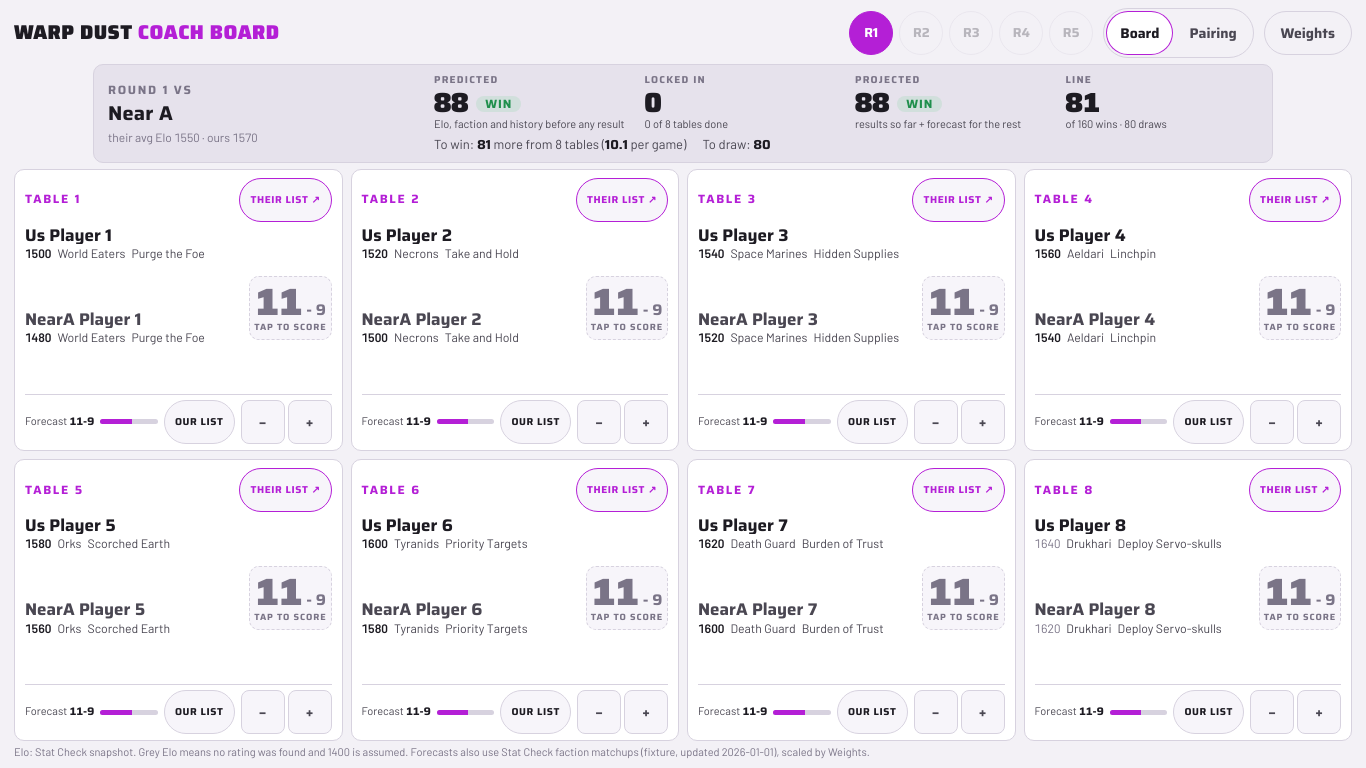
board save queue and poll race › discards a poll that began before a save and lands after it
The width and height of the screenshot is (1366, 768).
Step 1. Click the button named "Forecast one higher for table 1" → (310,422), box [288, 400, 332, 444]
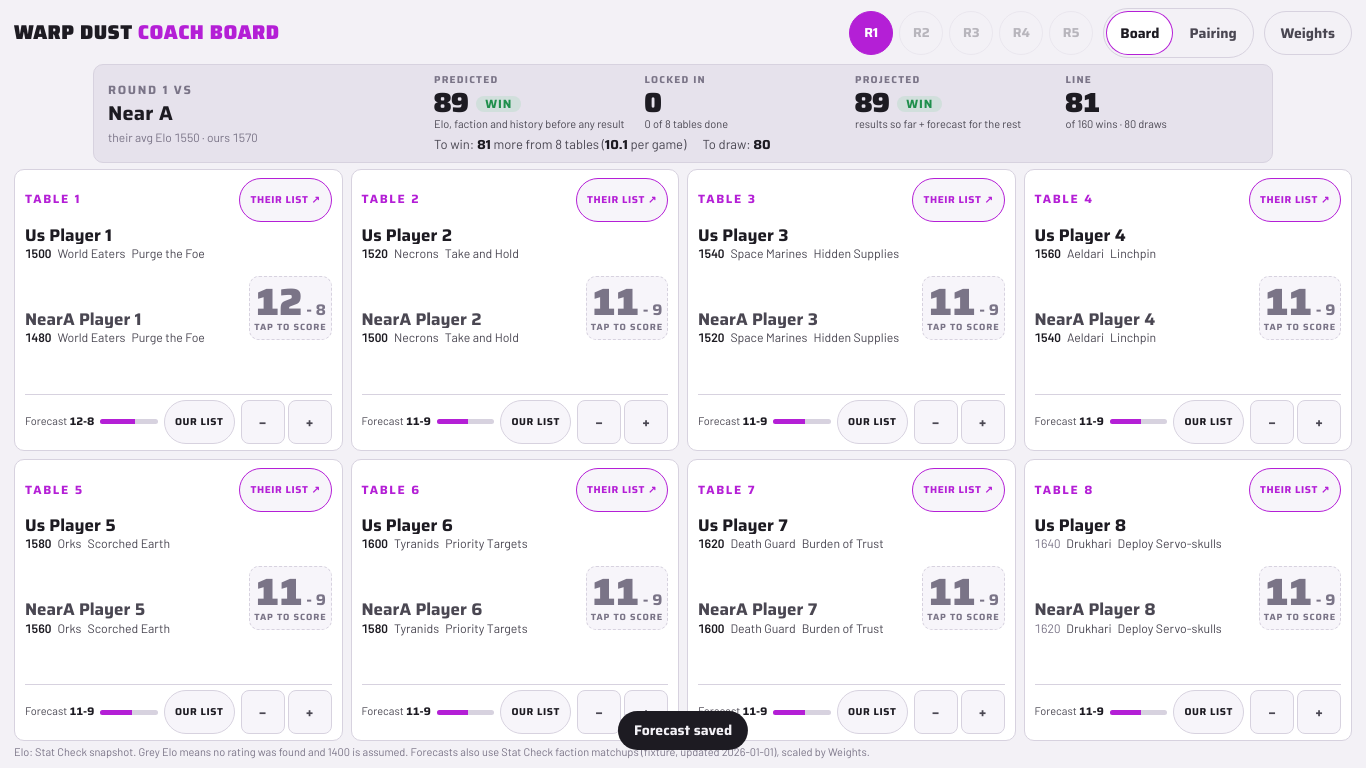
Expected: the text "Forecast 12-8" is shown, [25, 414, 94, 430]
